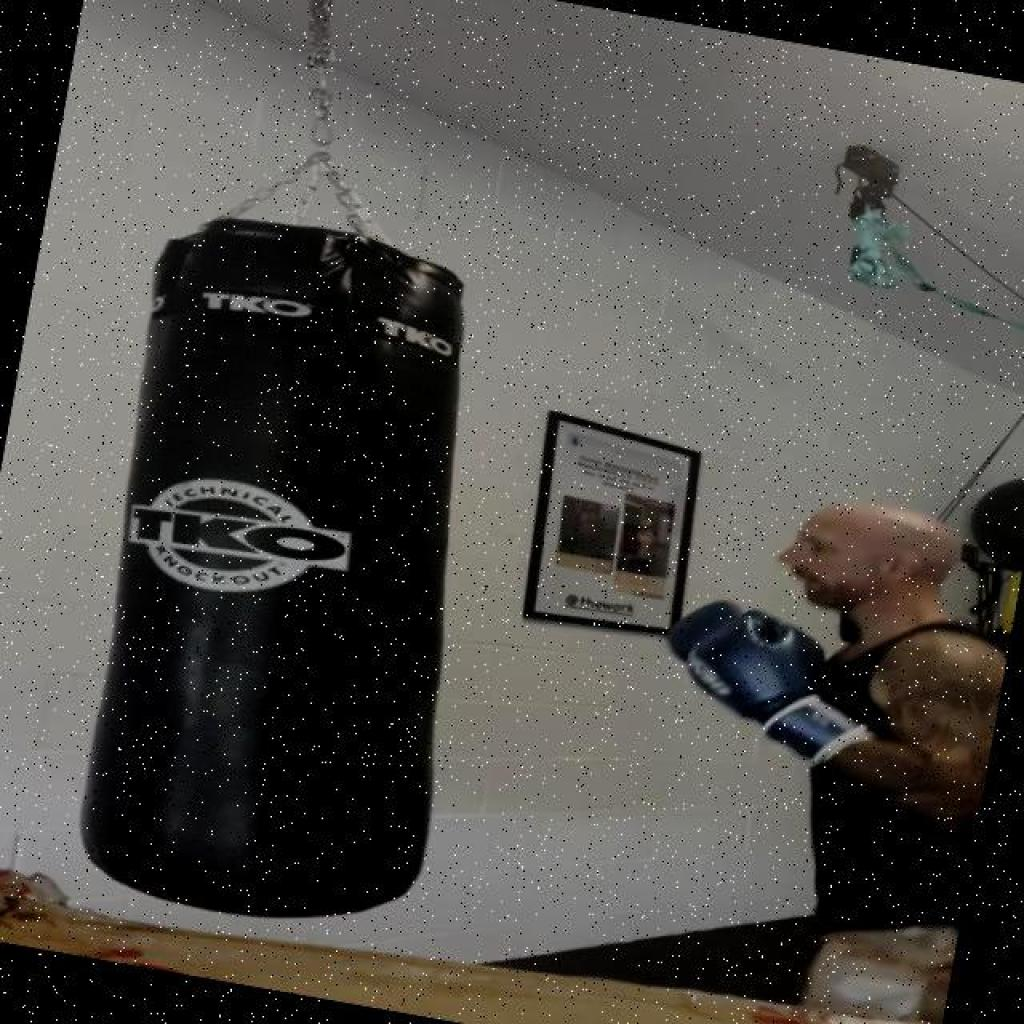bag: (24, 198, 581, 944)
no punch: (605, 453, 1024, 835)
